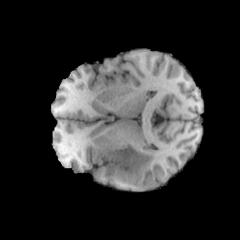glioma: (104, 145, 155, 183)
